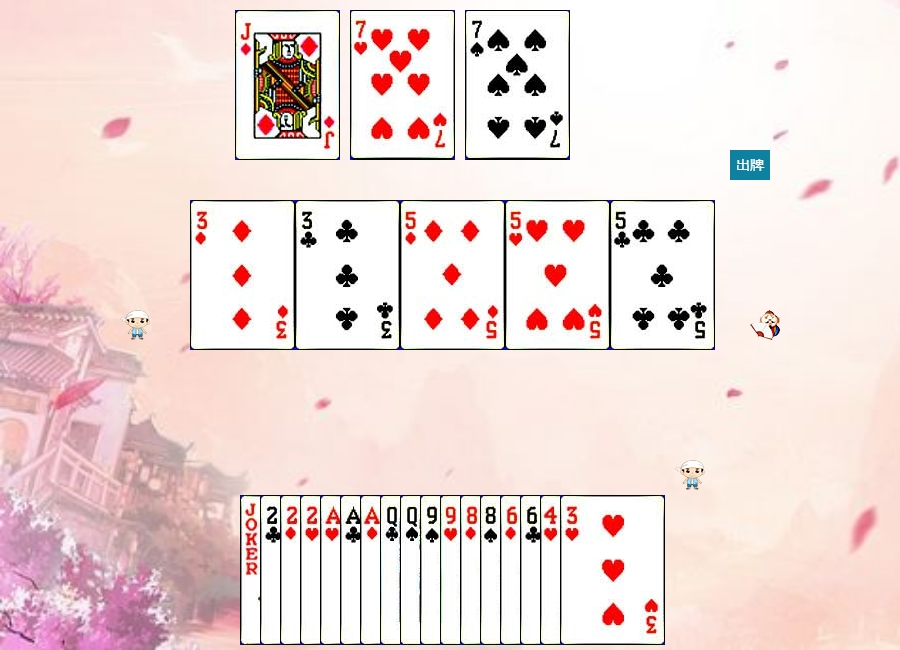11~1: (235, 10, 340, 160)
12~2: (380, 495, 485, 645)
12~4: (400, 495, 505, 645)
14~1: (360, 495, 465, 645)
14~2: (340, 495, 445, 645)
14~3: (320, 495, 425, 645)
15~1: (280, 495, 385, 645)
15~2: (260, 495, 365, 645)
15~3: (300, 495, 405, 645)
18~4: (240, 495, 345, 645)
3~1: (190, 200, 295, 350)
3~2: (295, 200, 400, 350)
3~3: (560, 495, 665, 645)
4~3: (540, 495, 645, 645)
5~1: (400, 200, 505, 350)
5~2: (610, 200, 715, 350)
5~3: (505, 200, 610, 350)
6~1: (500, 495, 605, 645)
6~2: (520, 495, 625, 645)
7~3: (350, 10, 455, 160)
7~4: (465, 10, 570, 160)
8~1: (460, 495, 565, 645)
8~4: (480, 495, 585, 645)
9~3: (440, 495, 545, 645)
9~4: (420, 495, 525, 645)
